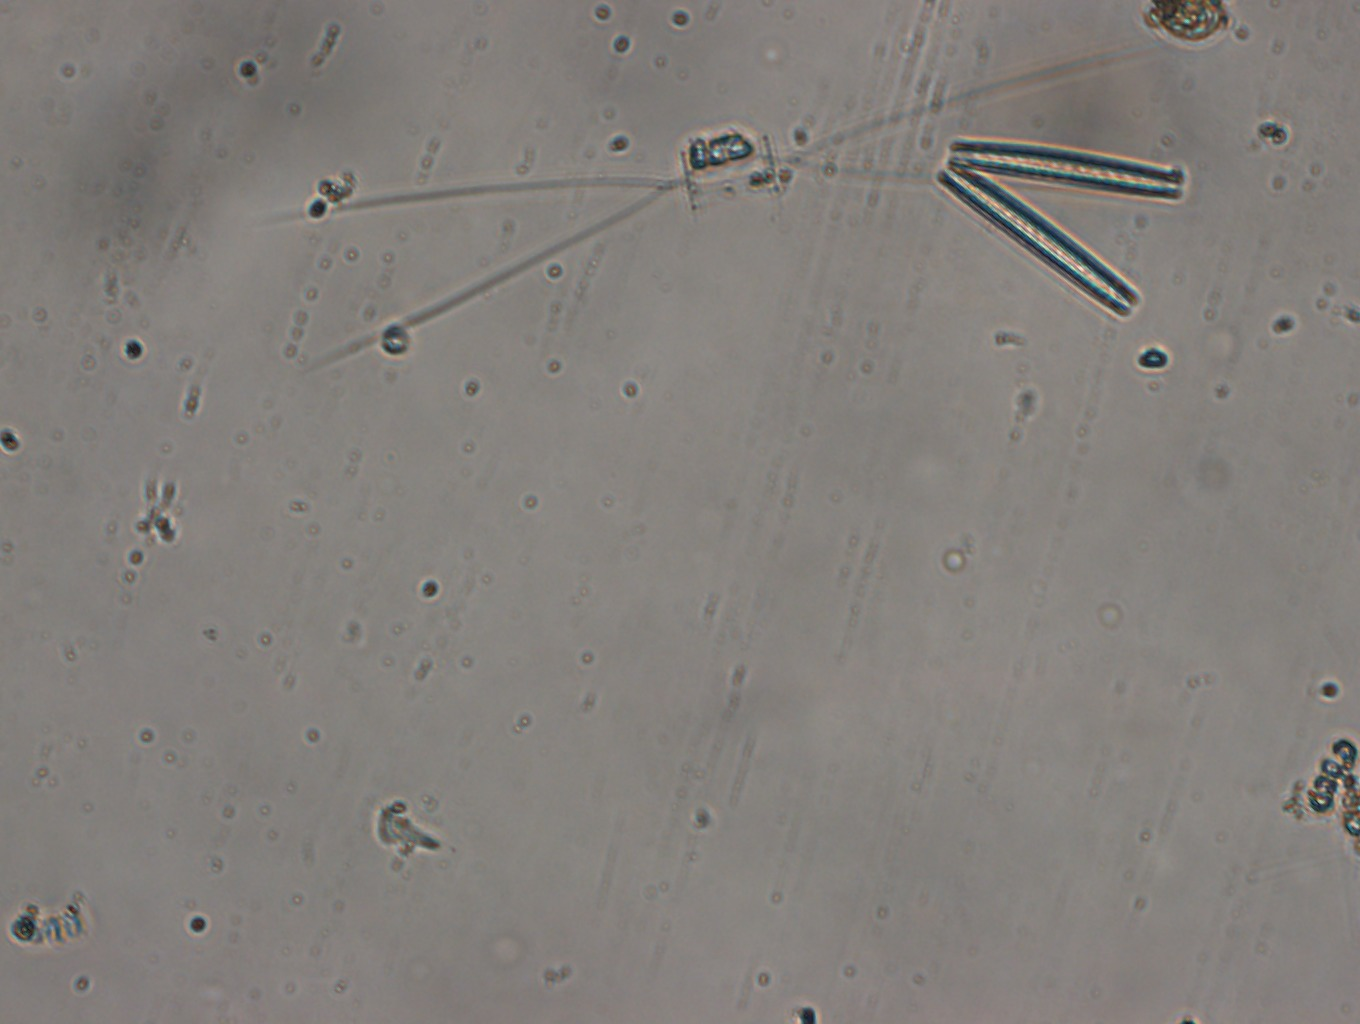chaetoceros: (254, 35, 1168, 376)
thalassionema nitzschioides: (933, 127, 1193, 325)
